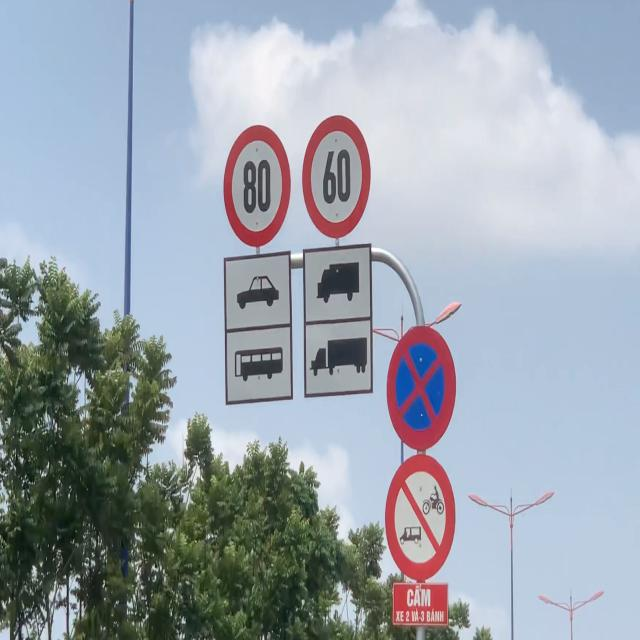Cam dung va do: (382, 319, 458, 453)
Toc do toi da: (301, 106, 372, 238), (223, 122, 292, 253)
